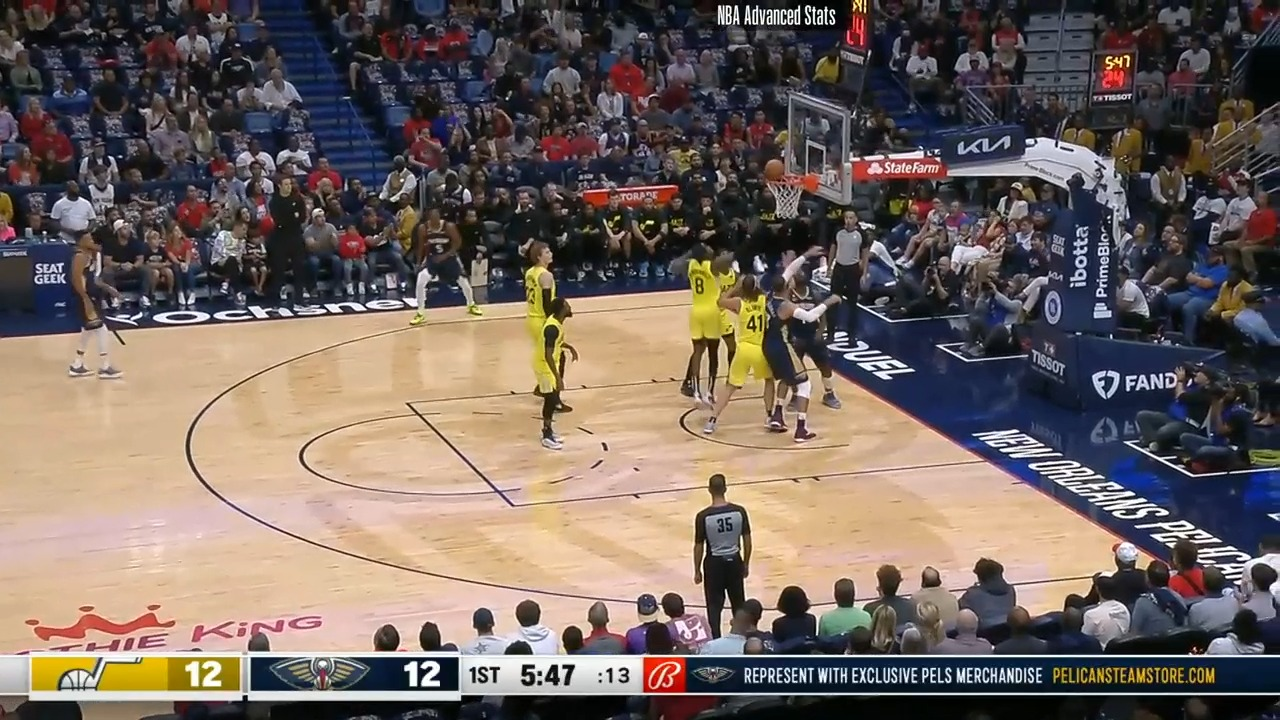net: (763, 170, 818, 222)
player: (763, 273, 842, 446), (700, 271, 774, 438), (679, 238, 740, 403), (521, 236, 575, 417), (68, 230, 128, 383), (410, 204, 479, 321), (786, 264, 842, 408), (536, 298, 582, 452)
referee: (689, 476, 756, 626), (824, 211, 872, 346)
